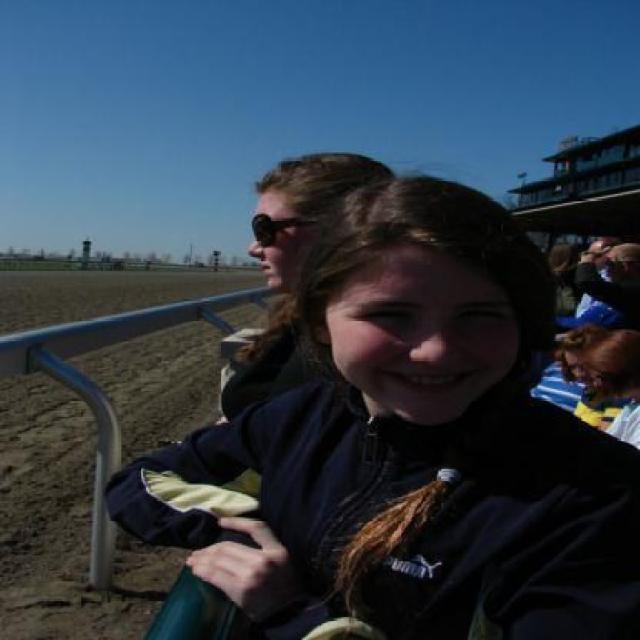face_nomask: (337, 285, 520, 407)
glasses: (246, 198, 329, 245)
hand_noglove: (161, 506, 322, 626)
head_nohelmet: (327, 162, 528, 276), (240, 144, 362, 207)
